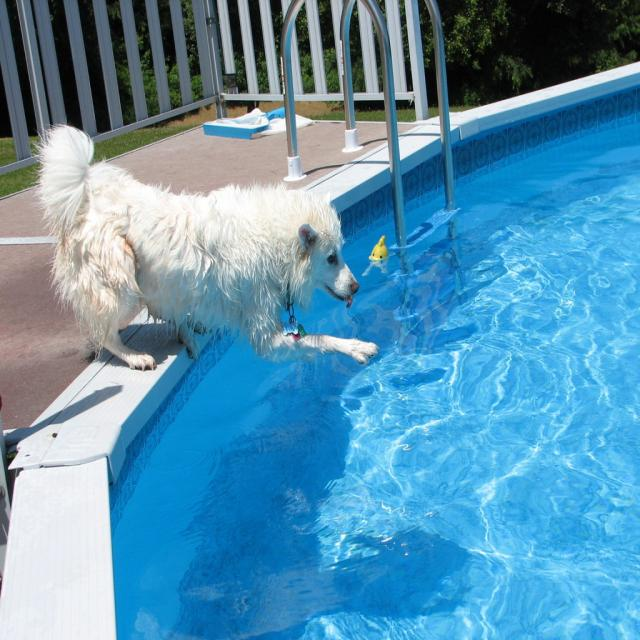Dog: (30, 120, 380, 362)
